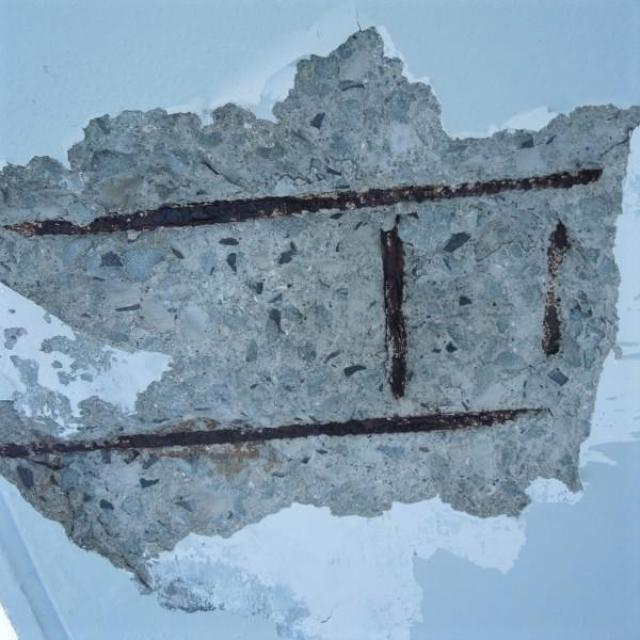Rebar: (0, 18, 639, 594)
